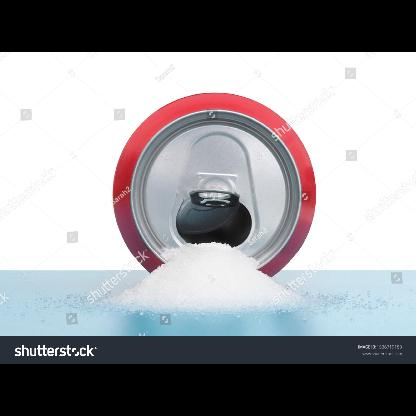Lid_Open: (166, 179, 258, 259)
